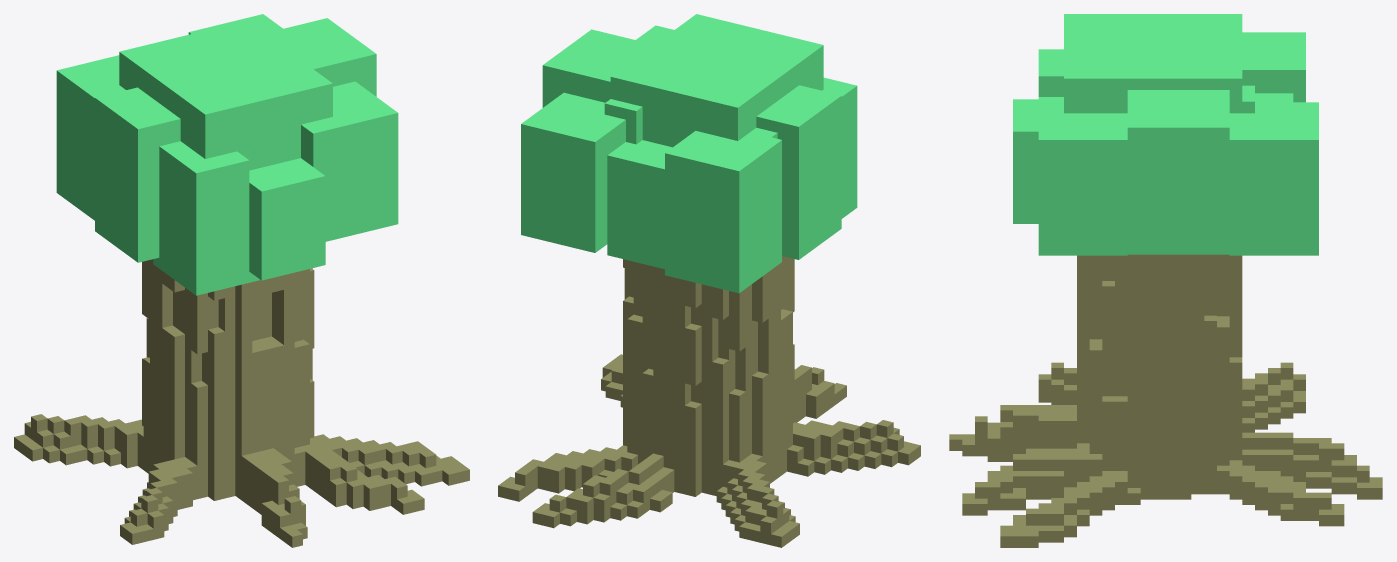
The model's file is turi-.obj.
The picture shows the model from 3 angles, left to right: view 1: azimuth 30°, elevation 25°; view 2: azimuth 150°, elevation 25°; view 3: azimuth 270°, elevation 25°; orthographic projection. The views are drawn at different scales.
Bounding box in the file's own units: 30 × 36 × 34.
